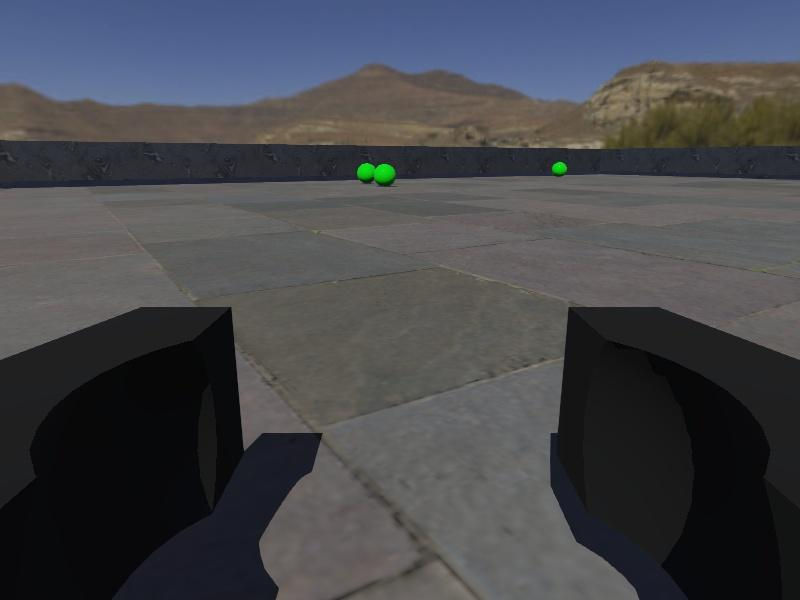green ball: (373, 162, 397, 188), (552, 160, 569, 177)
